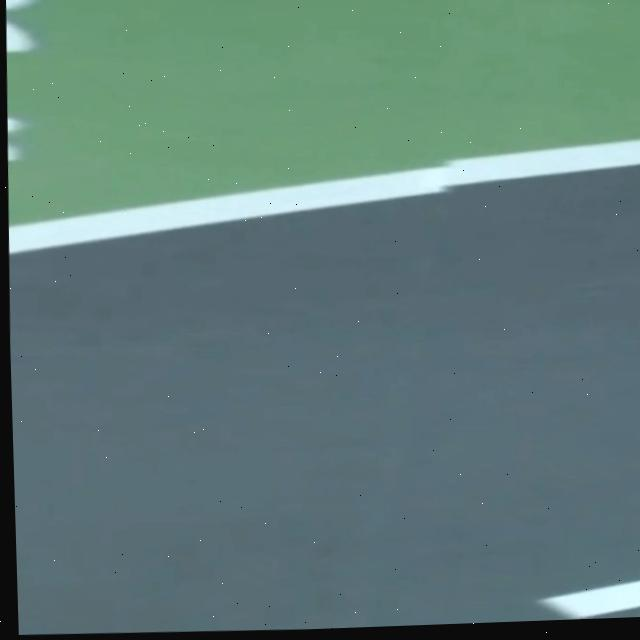center: (539, 580, 640, 618)
right: (8, 140, 640, 253)
